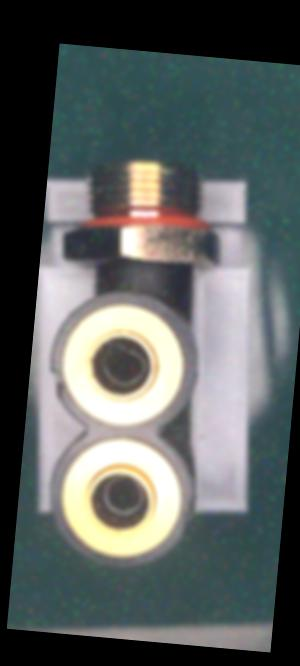bump: (173, 489, 198, 534), (45, 358, 67, 397)
off-centered: (93, 337, 154, 392)
white mark: (144, 270, 160, 286)
